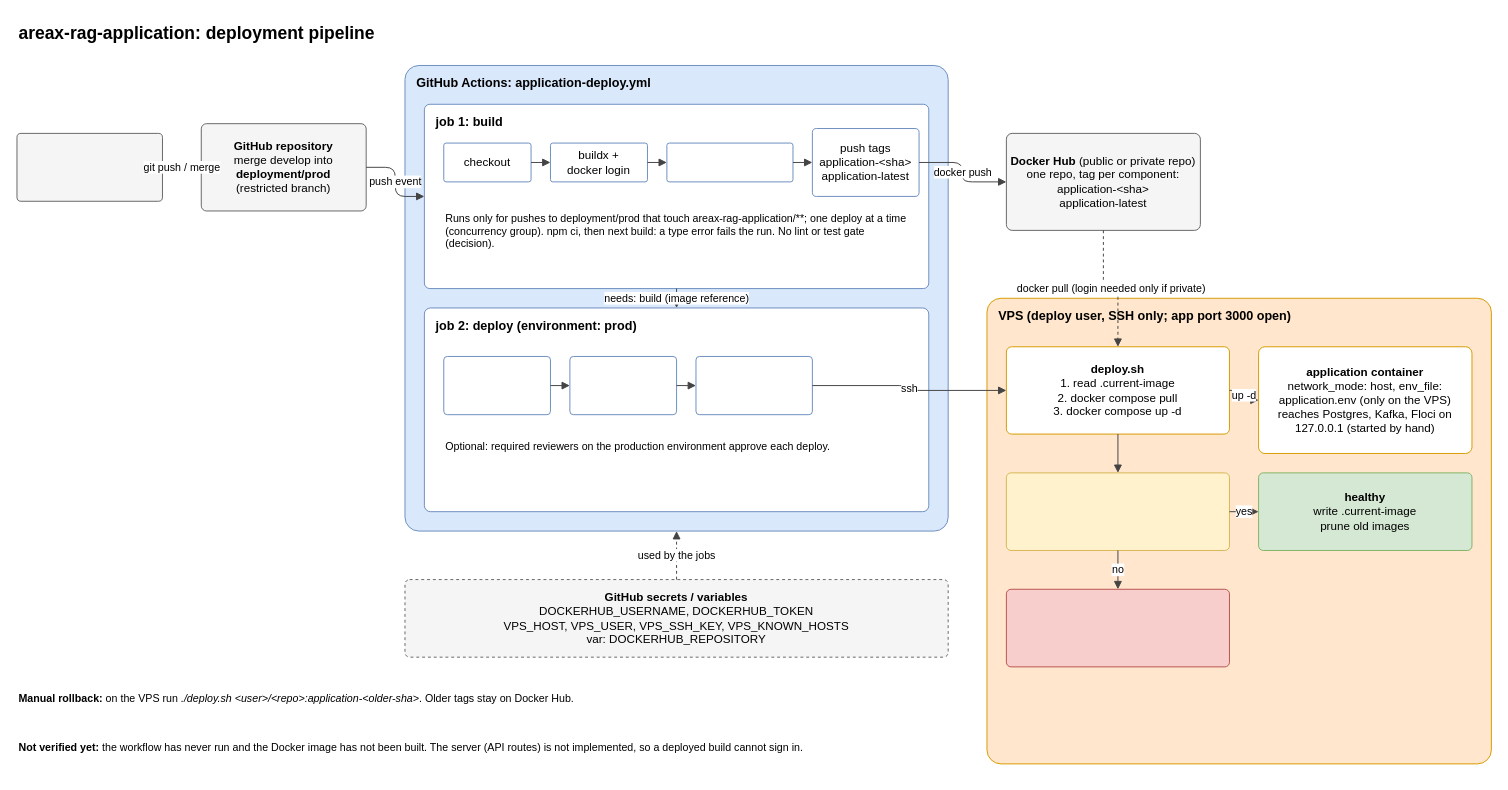
This 1508x790 diagram has some shape labels left out. The centre of each missing label's shape, as x and y in pixels:
"Developer works on develop" belongs at point 89,166.
"docker build (Next.js standalone)" belongs at point 729,162.
"health check GET :3000/login 200 within 60 s?" belongs at point 1117,511.
"prepare SSH key + pinned known_hosts" belongs at point 496,385.
"scp compose.yml + deploy.sh" belongs at point 623,385.
"ssh: run deploy.sh <image>" belongs at point 753,385.
"unhealthy print logs, run the previous image, exit 1 (run turns red)" belongs at point 1117,627.
